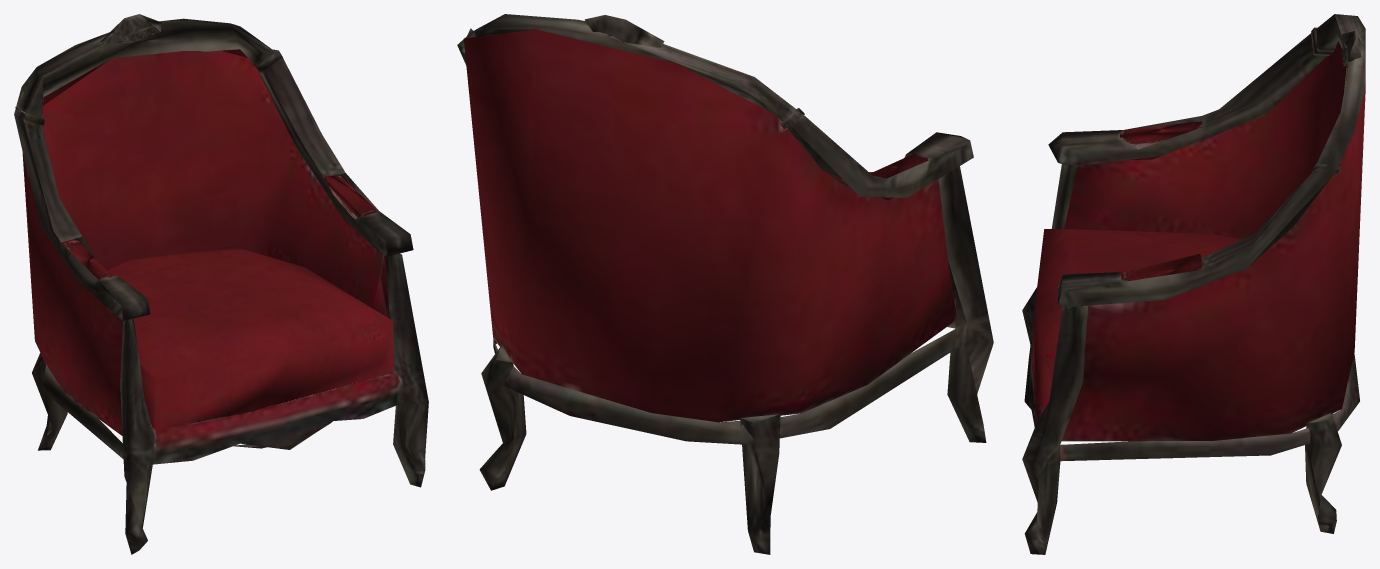
The model's file is cinema_seat_lod.glb.
The picture shows the model from 3 angles, left to right: view 1: azimuth 30°, elevation 25°; view 2: azimuth 150°, elevation 25°; view 3: azimuth 270°, elevation 25°; orthographic projection. The views are drawn at different scales.
Visible parts, largest first — view 1: ArmChair_01; view 2: ArmChair_01; view 3: ArmChair_01.
Boxes of the visible parts, x1,y1,x2,y2 form: ArmChair_01: [14, 14, 428, 554]; ArmChair_01: [457, 14, 993, 554]; ArmChair_01: [1022, 14, 1365, 554].
Bounding box in the file's own units: 0.8483 × 1.06 × 0.7482.
1 material, 1 textured.
